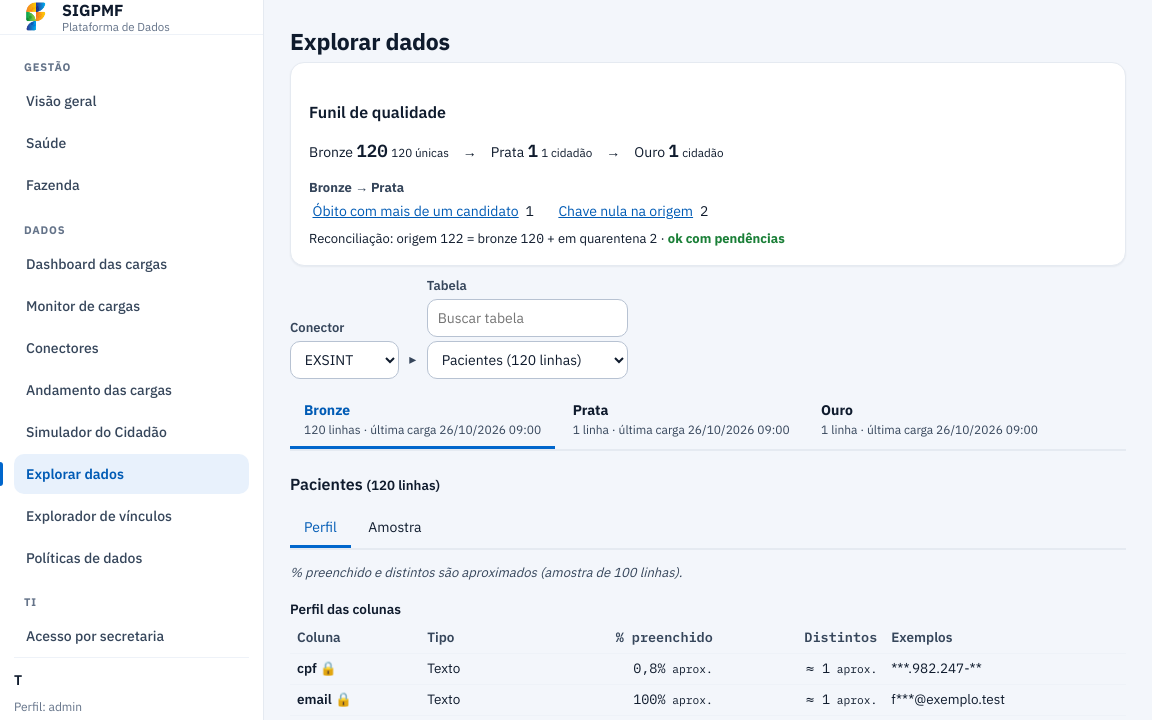
Test: Explorar dados › UX: cabeçalho da coluna quarentena da Amostra é "Quarentena"
What coordinates should you click on to do the following:
click the tab "Amostra"
I would click on:
 (395, 529)
Its box is [354, 510, 436, 548].
(page scrolled)
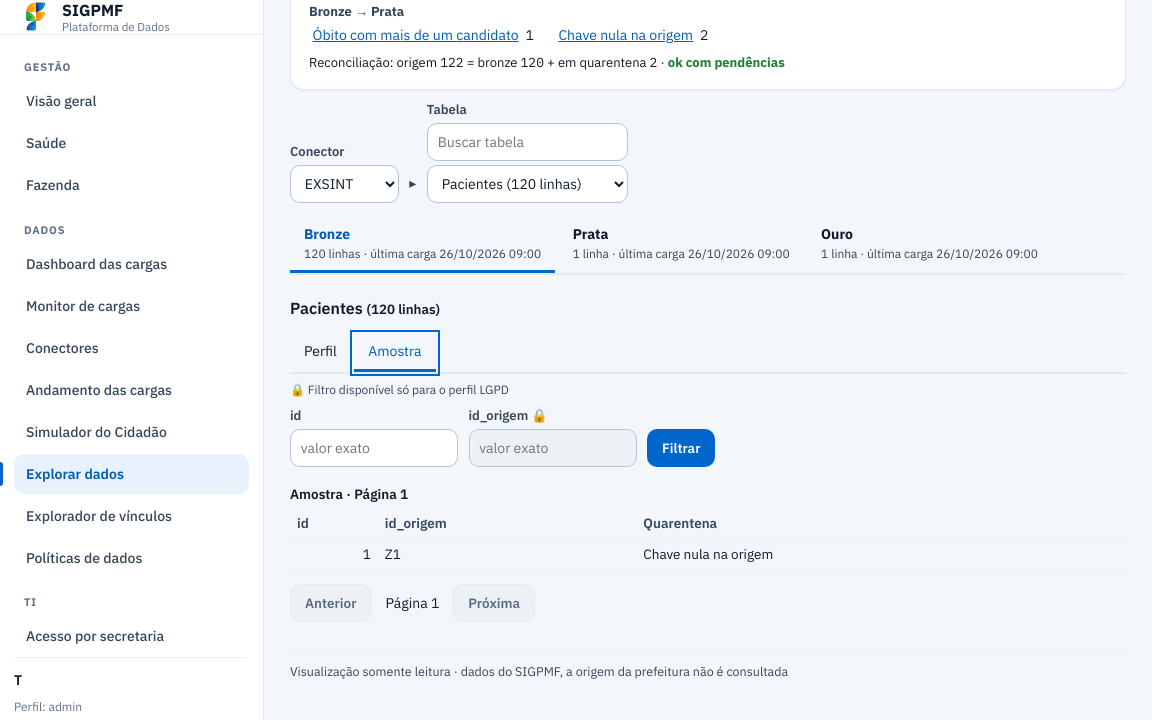
Now the column heading "Quarentena" is shown, box [636, 508, 1126, 538]
Now the cell "Chave nula na origem" is shown, box [636, 538, 1126, 570]
